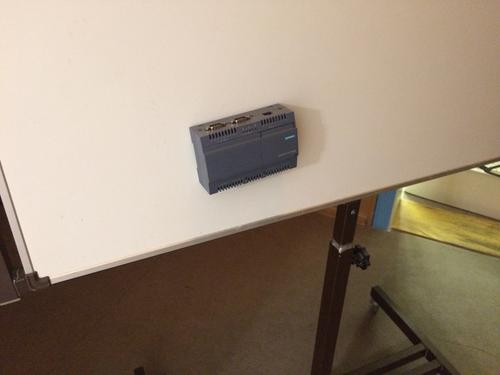iot2000: (187, 102, 299, 195)
